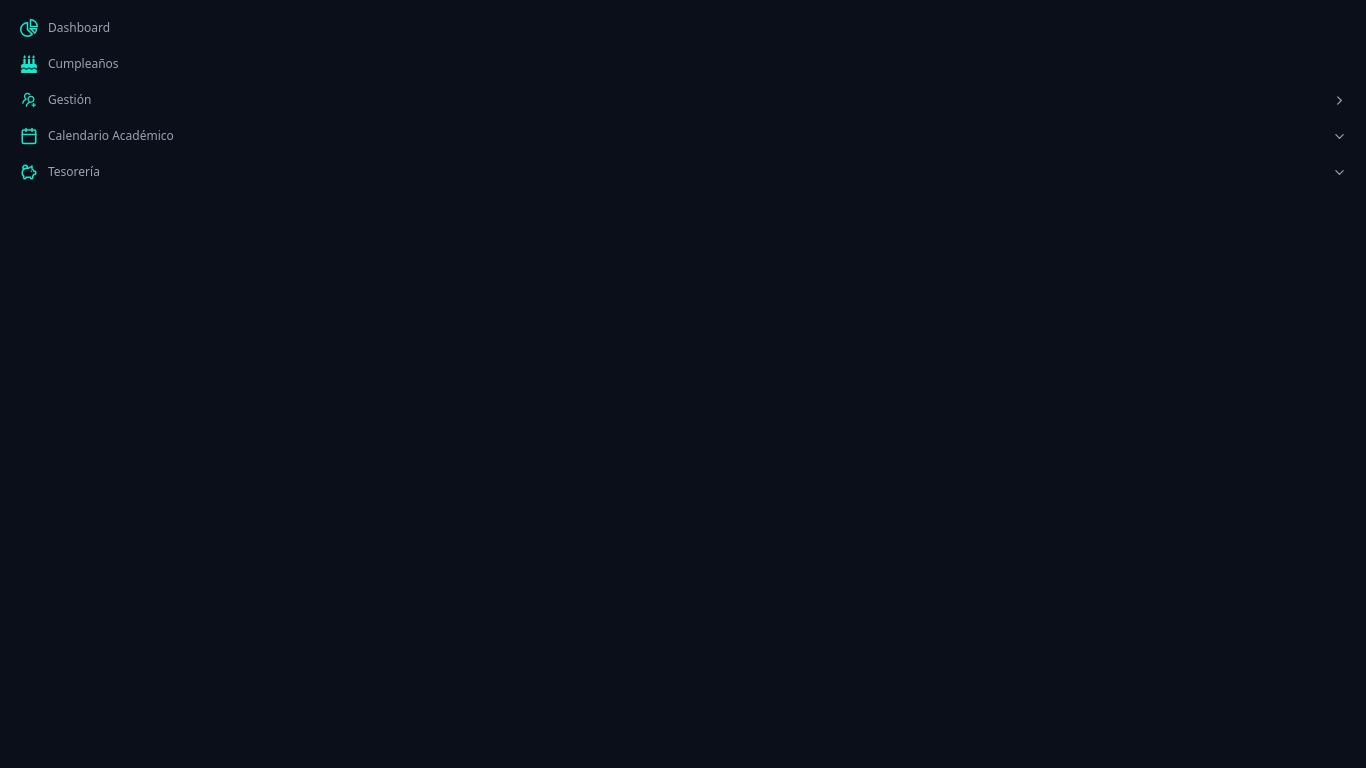
Sidebar Component › [Sidebar #08.0] Agrupa enlaces administrativos en GestiÃ³n
Expected: the link "apoderados" is not shown
Click the button "Gestión": [70, 99] box [8, 84, 1358, 116]
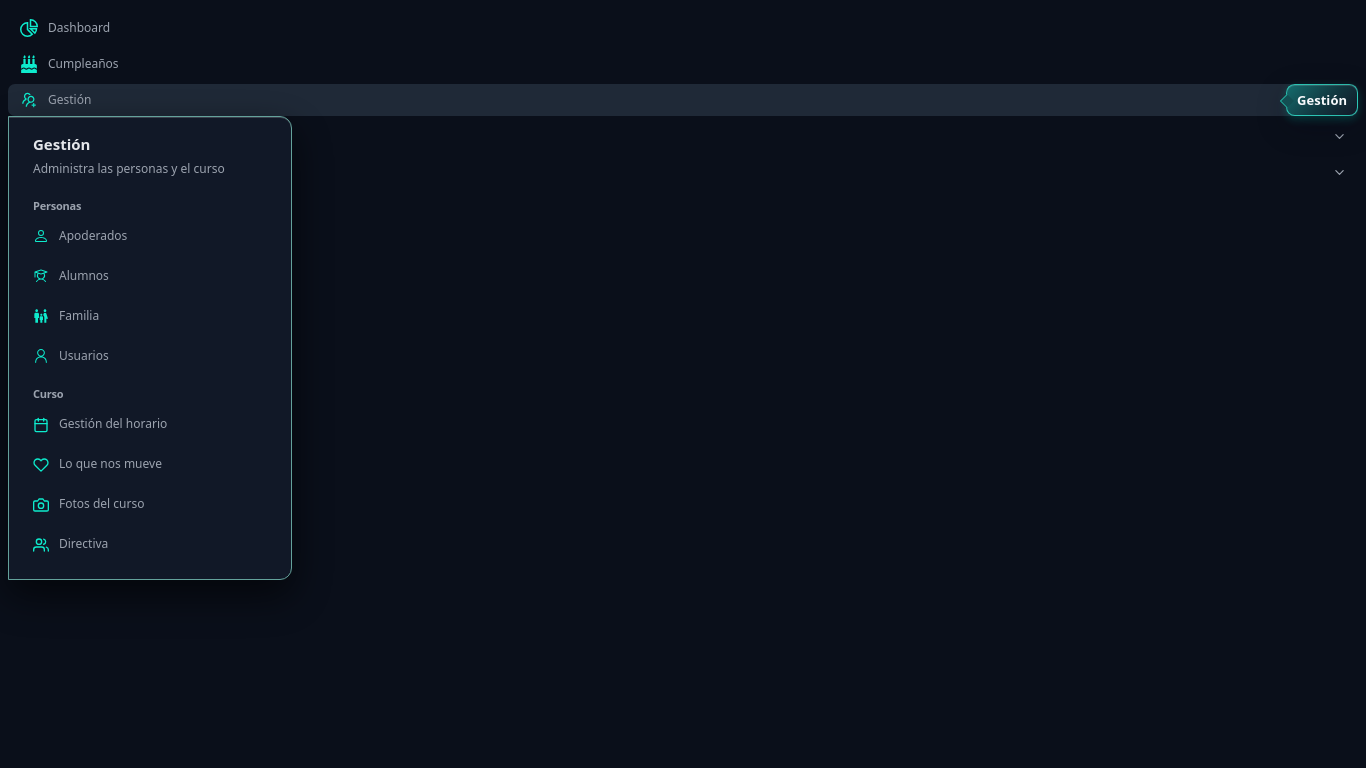
Now the button "Gestión" is expanded, box [8, 84, 1358, 116]
